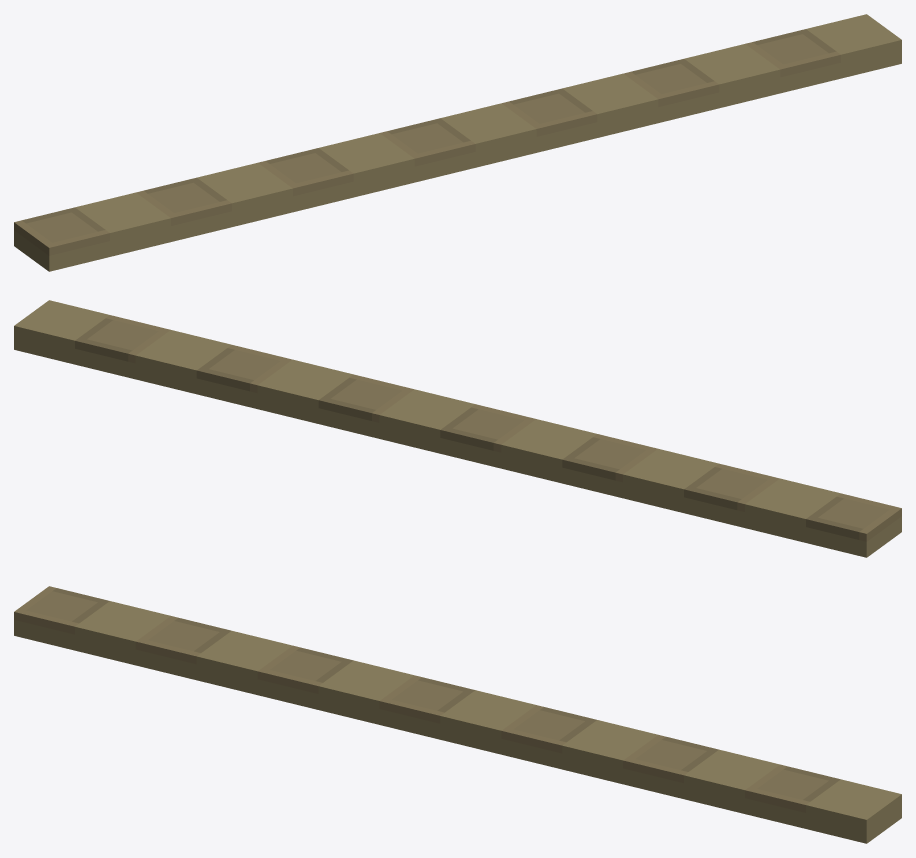
Rendered from BlockL2.obj.
3 views of the same model, one above another, from view 1: azimuth 30°, elevation 25°; view 2: azimuth 150°, elevation 25°; view 3: azimuth 330°, elevation 25° (orthographic).
Bounding box in the file's own units: 11.2 × 0.3 × 0.8.
1 material, 1 textured.
